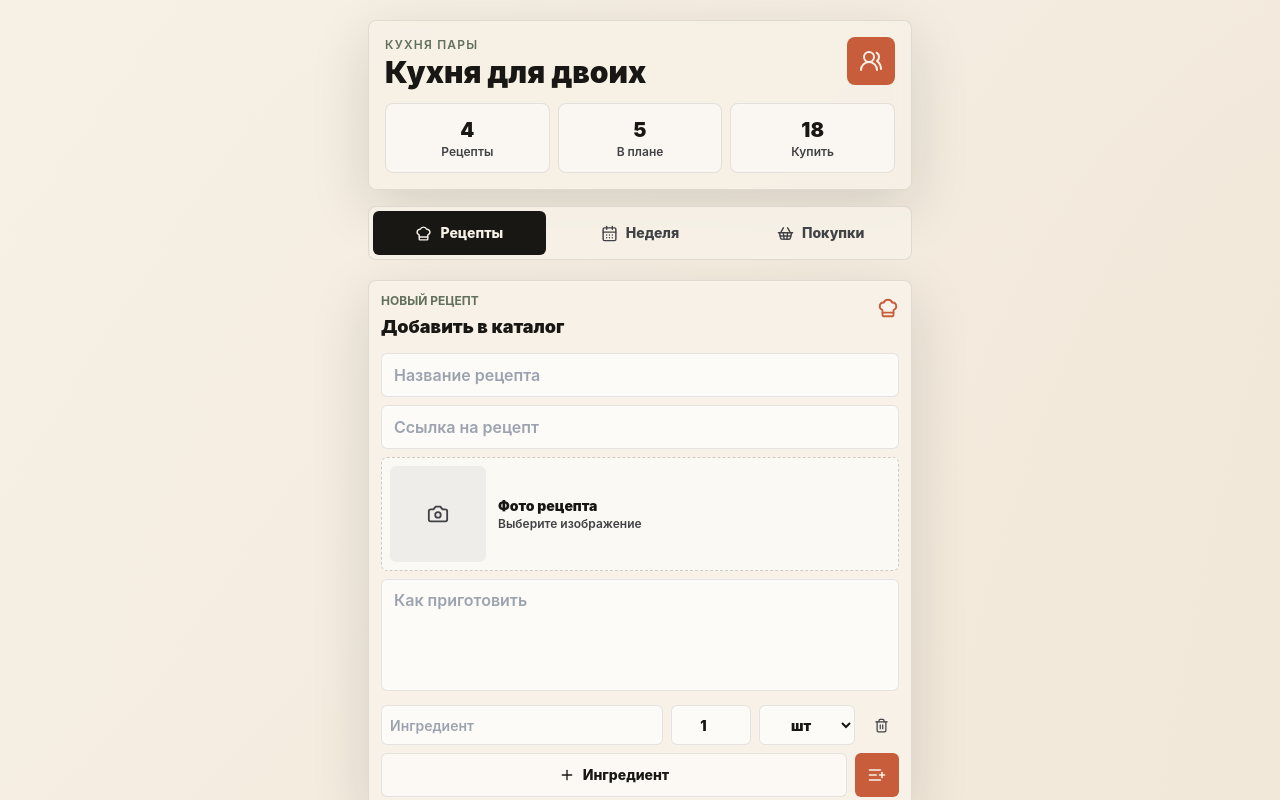
Test case: MiniApp › shows invite controls with demo status outside Telegram
Click the button named "Открыть семью".
click(871, 61)  # box [847,37,895,85]
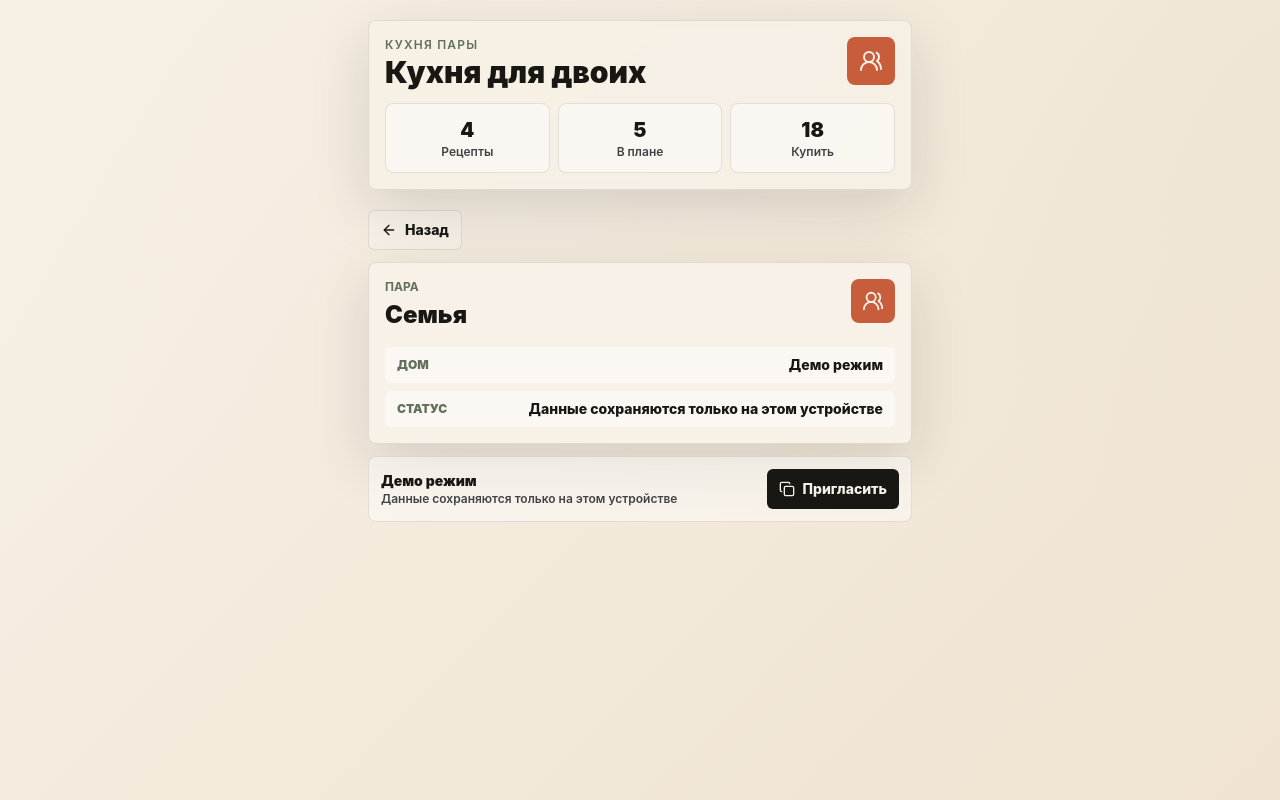
Check: the text "Демо режим" is shown 2 times, box [789,355,883,375]; [381,472,477,489]
Check: the button with aria-label "Создать ссылку приглашения" is shown, box [766,469,899,509]
